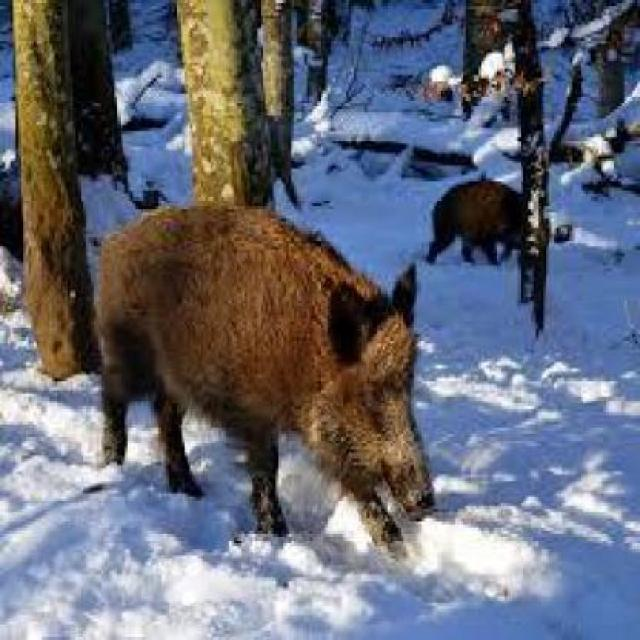wildboar: (84, 196, 439, 569), (426, 172, 554, 272)
